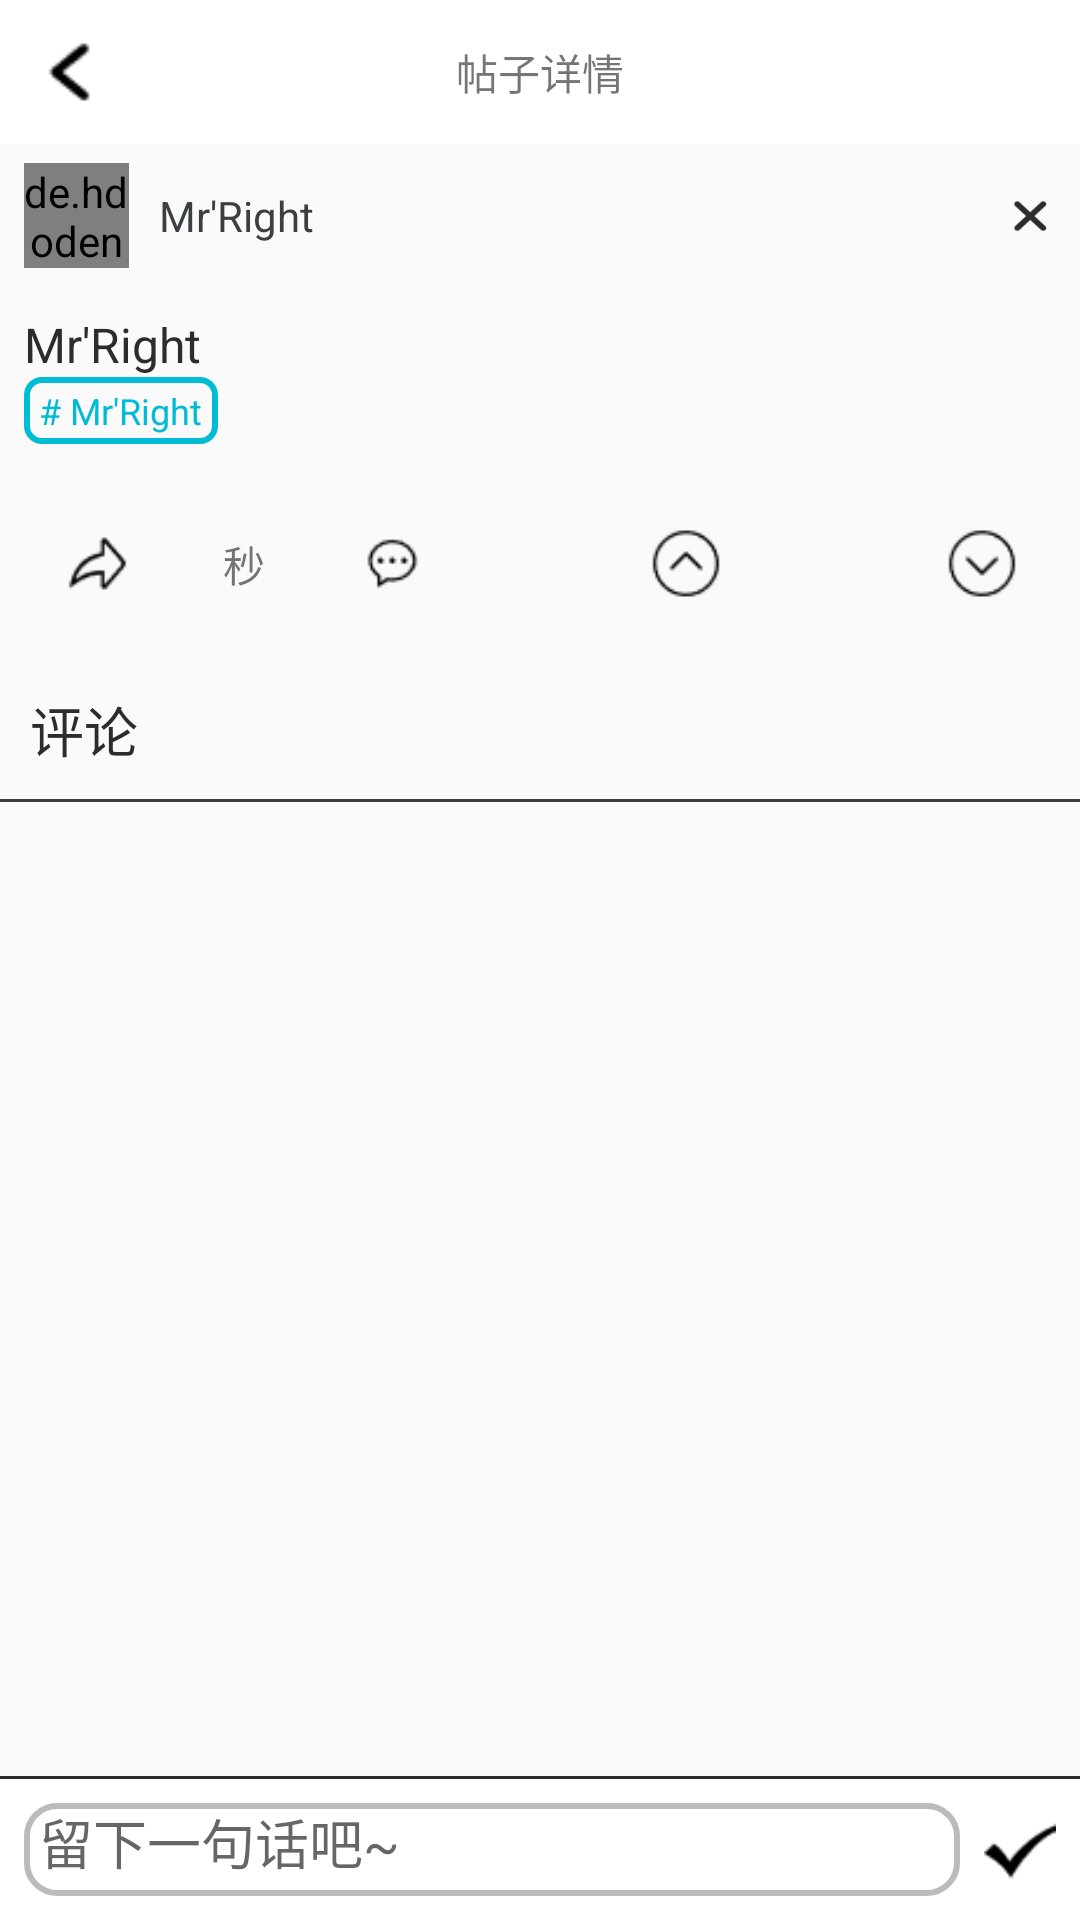

Where icons sit on this 1080 x 1920 app screen, as (x1, y1, x2, y2):
chacha: (1014, 201, 1047, 231)
down: (948, 530, 1016, 597)
fanhui: (49, 43, 90, 101)
pinglun: (367, 539, 418, 588)
zhuanfa: (69, 537, 127, 590)
